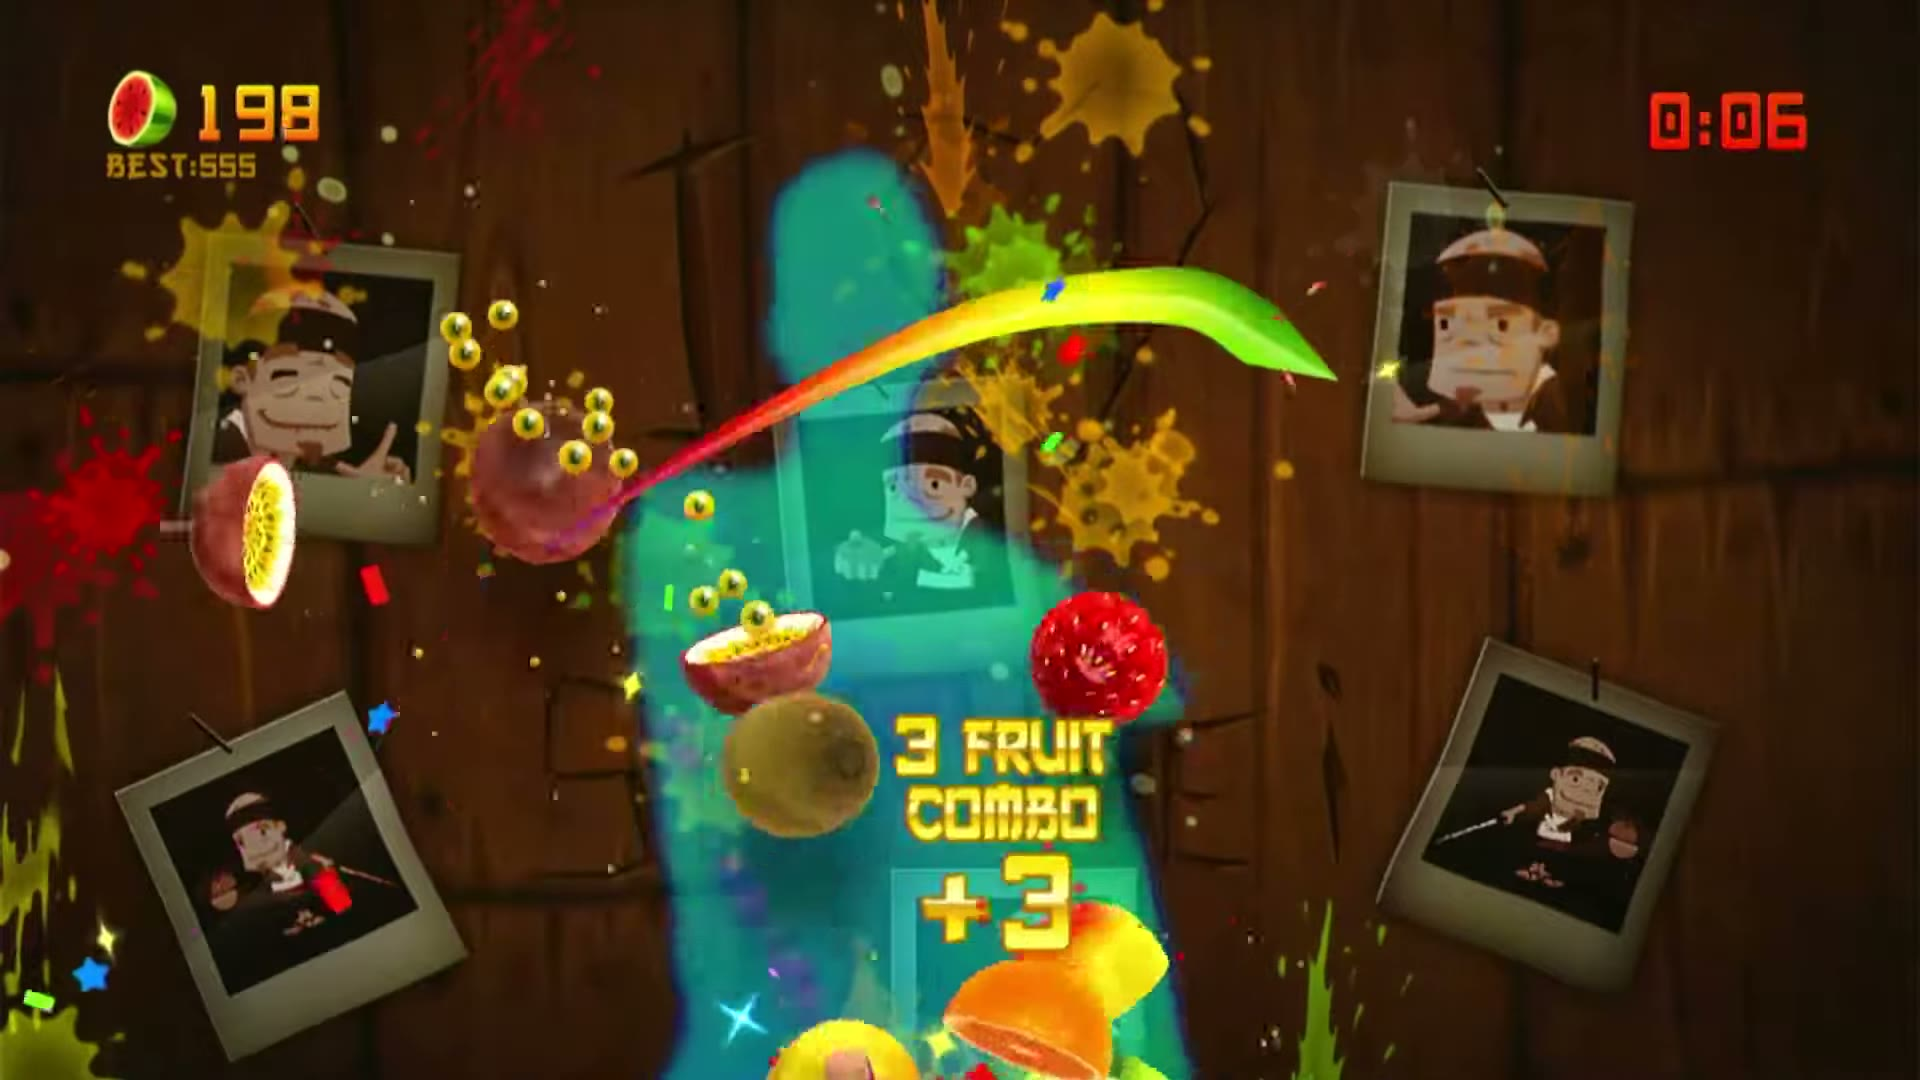blade_trail: (510, 290, 1320, 541)
fruit: (940, 880, 1150, 1080), (731, 760, 899, 940), (0, 500, 120, 740), (471, 430, 620, 620), (1000, 650, 1160, 820), (720, 680, 890, 820)
